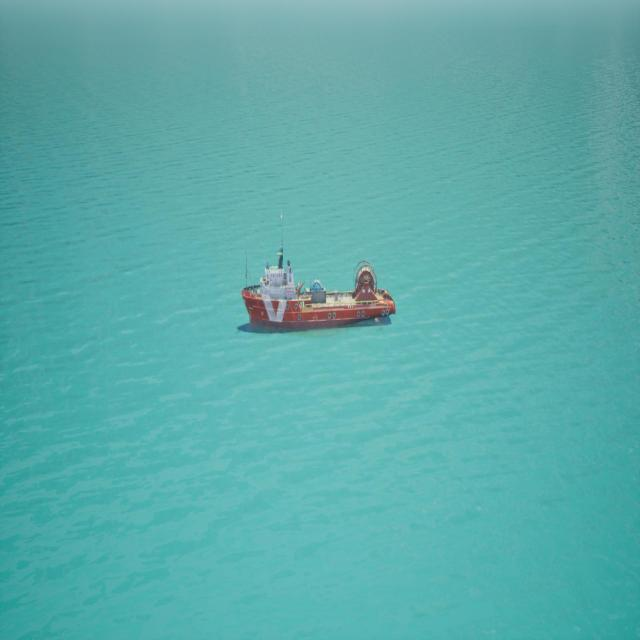tug boat: (240, 249, 397, 336)
